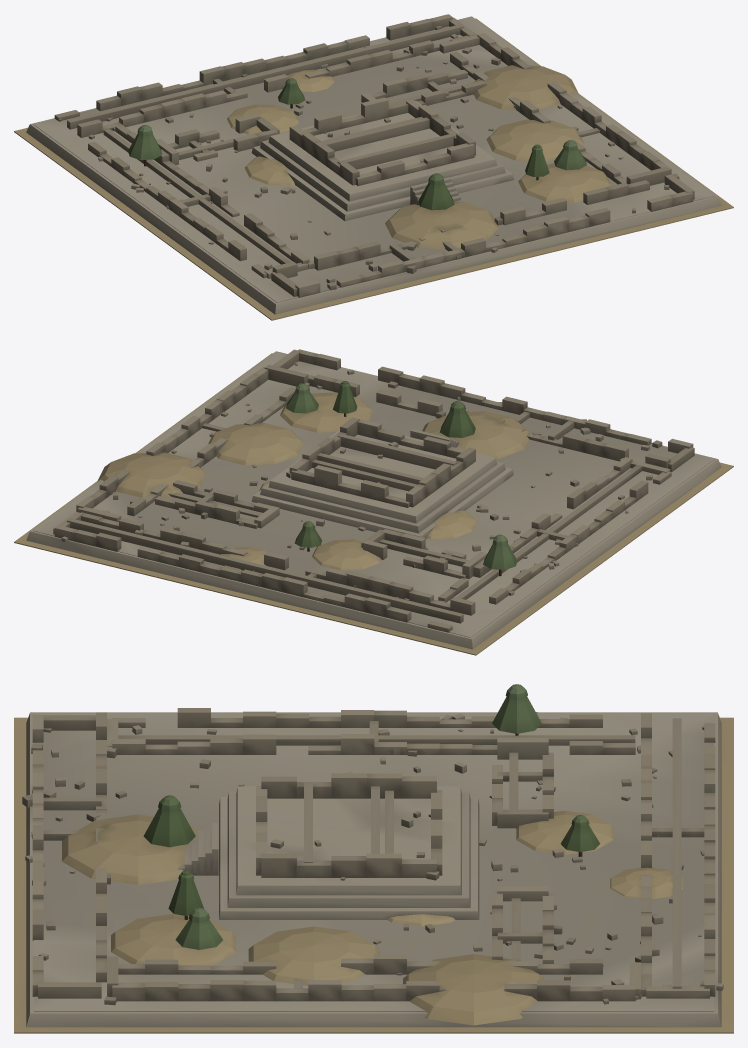
Rendered from dungur-ruin.glb.
3 views of the same model, one above another, from view 1: azimuth 30°, elevation 25°; view 2: azimuth 150°, elevation 25°; view 3: azimuth 270°, elevation 25° (orthographic). The views are drawn at different scales.
Visible parts, largest first — view 1: p0_platform, p1_ranges, p2_pavilion; view 2: p0_platform, p1_ranges, p2_pavilion; view 3: p0_platform, p1_ranges, p2_pavilion.
Part boxes in pixels (<box>): p0_platform: <box>14,16,733,320</box>; p1_ranges: <box>54,14,694,297</box>; p2_pavilion: <box>251,97,513,221</box>; p0_platform: <box>14,351,733,655</box>; p1_ranges: <box>53,349,694,632</box>; p2_pavilion: <box>251,417,513,539</box>; p0_platform: <box>14,684,733,1033</box>; p1_ranges: <box>22,708,723,1005</box>; p2_pavilion: <box>178,773,479,919</box>.
Bounding box in the file's own units: 60.33 × 6.47 × 58.
